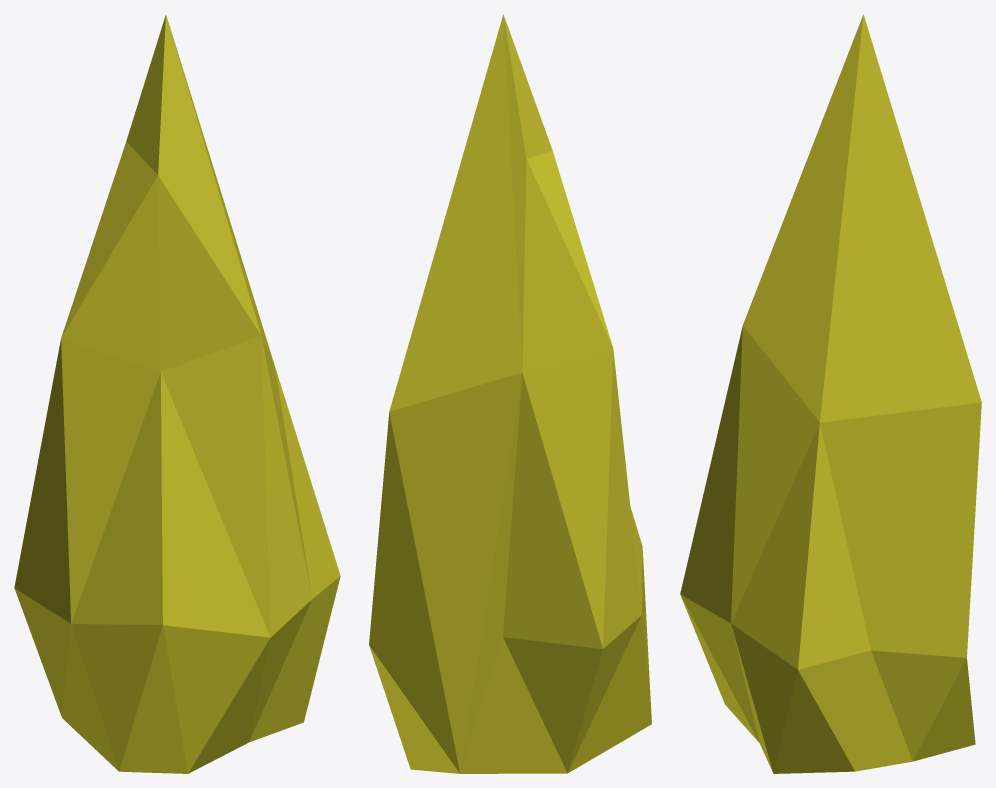
Rendered from Tree_9.fbx.
3 views of the same model, side by side, from view 1: azimuth 30°, elevation 25°; view 2: azimuth 150°, elevation 25°; view 3: azimuth 270°, elevation 25° (orthographic). The views are drawn at different scales.
Parts seen in each view (by area): view 1: Tree_9; view 2: Tree_9; view 3: Tree_9.
Part boxes in pixels (x1,y1,x2,y2): Tree_9: [14, 15, 340, 773]; Tree_9: [369, 14, 651, 773]; Tree_9: [680, 14, 981, 773].
Bounding box in the file's own units: 453 × 1136 × 436.
